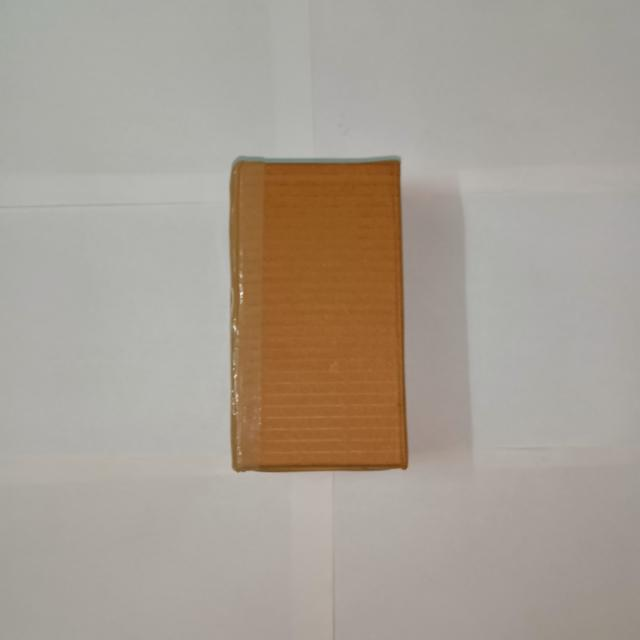box: (229, 159, 411, 477)
